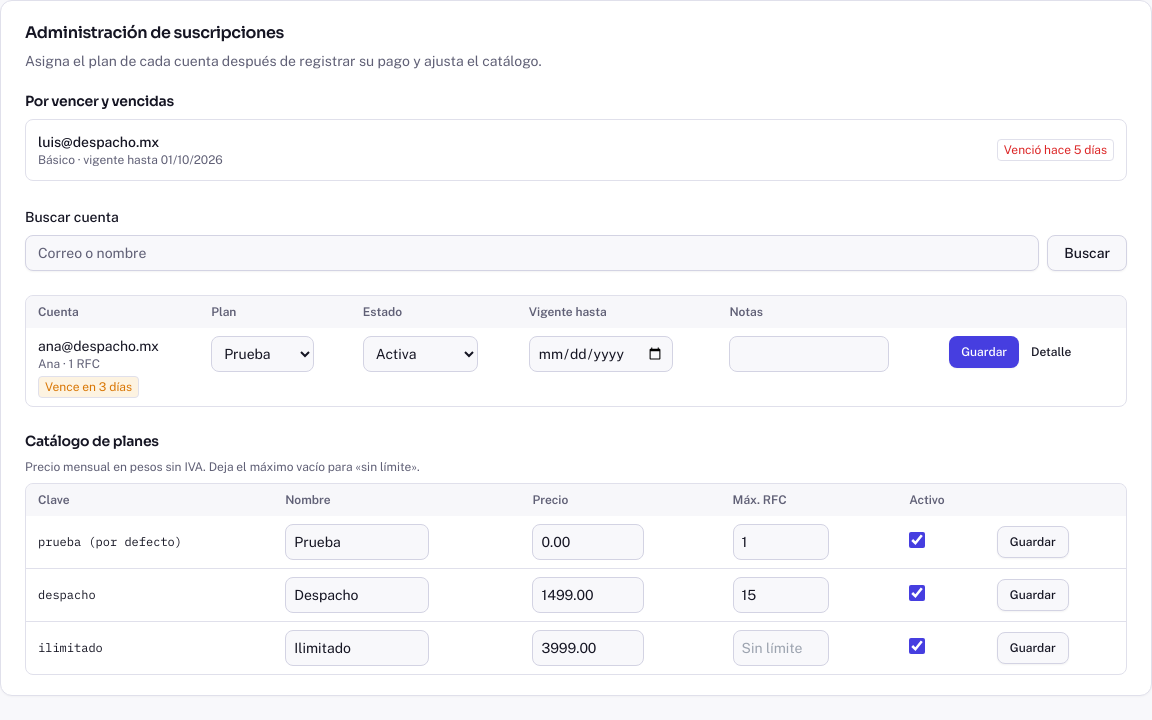
Scenario: AdminSuscripciones › edita un plan del catálogo y muestra el error del backend
This screenshot has width=1152, height=720.
Replace the text in the field named "Máximo de RFC de despacho" with "20" at [781, 595], box [733,577,829,613]
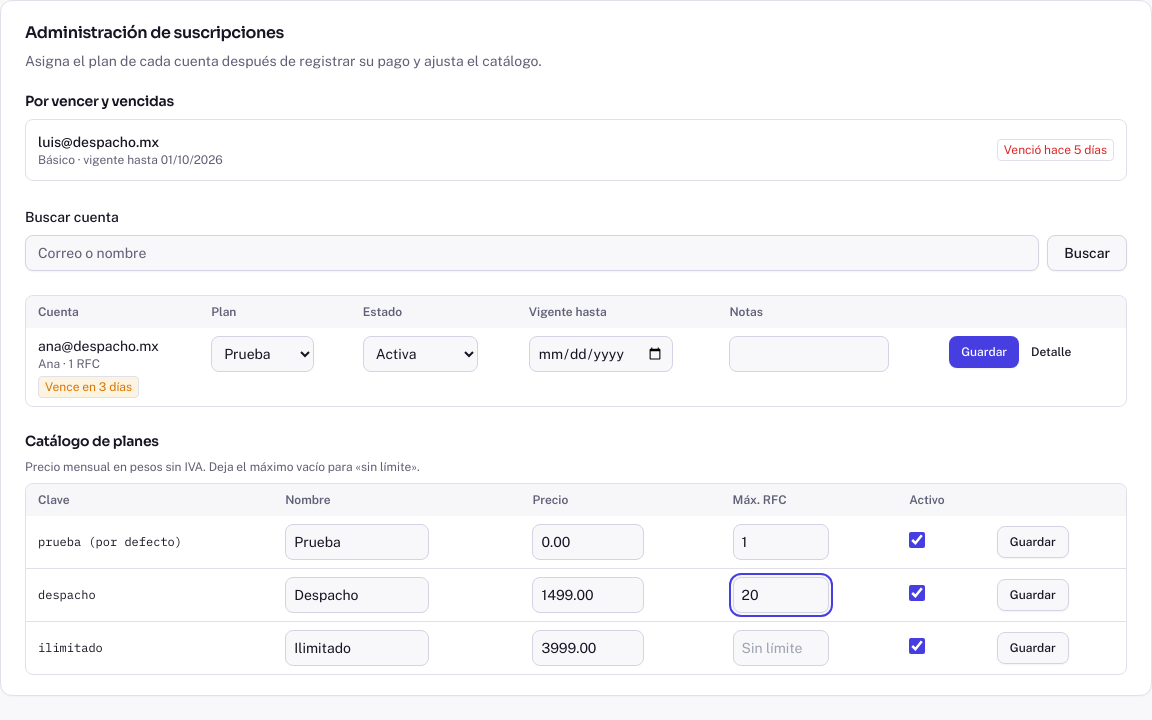
Click the button with aria-label "Guardar despacho".
click(1033, 595)  # box [997,579,1069,611]
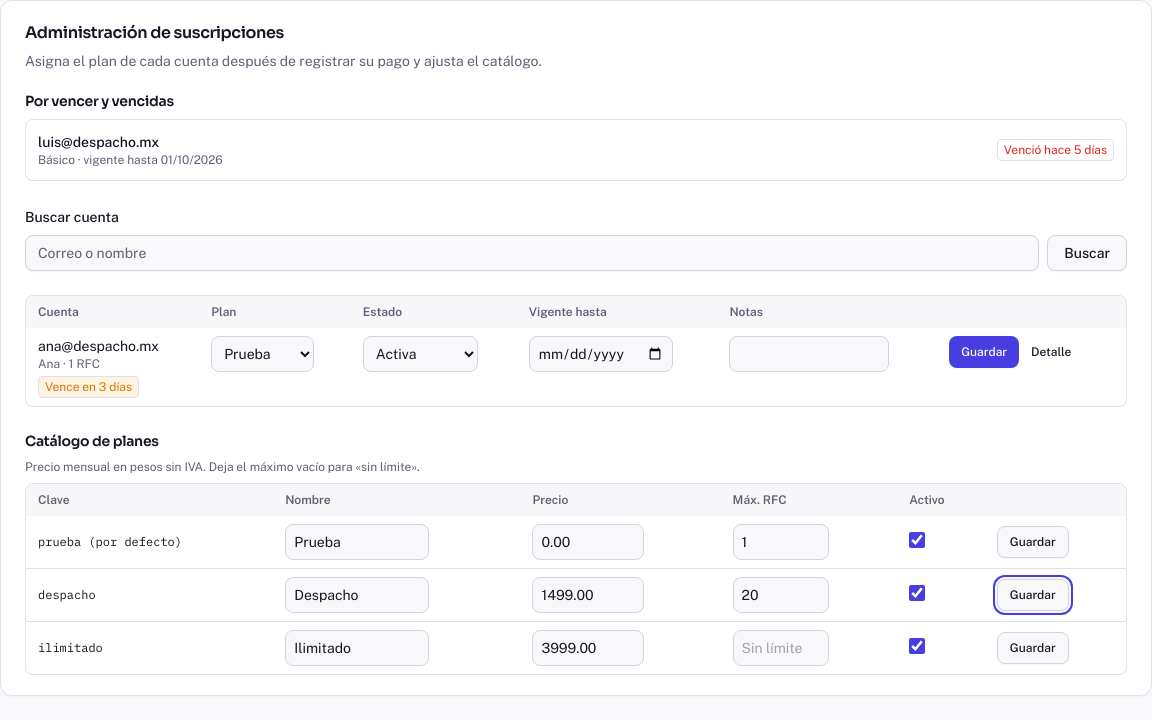
Click the button with aria-label "Guardar despacho".
click(1033, 595)  # box [997,579,1069,611]
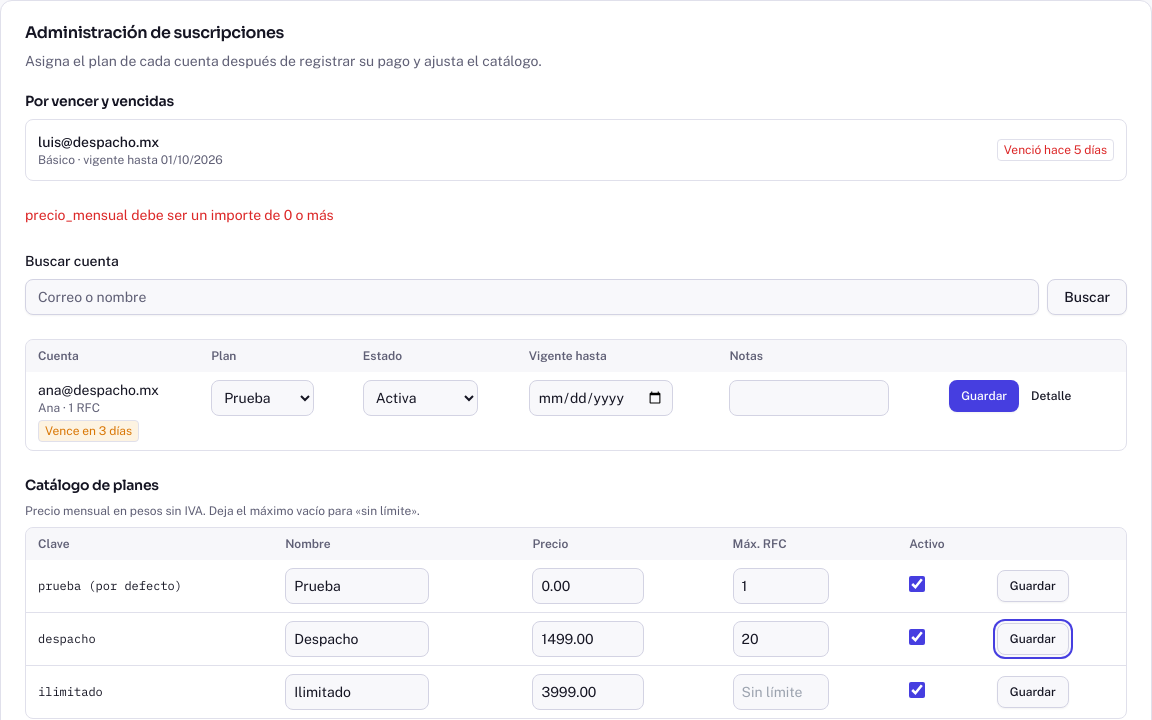
Check: the text "precio_mensual debe ser un importe de 0 o más" is shown, box [25,207,334,223]
